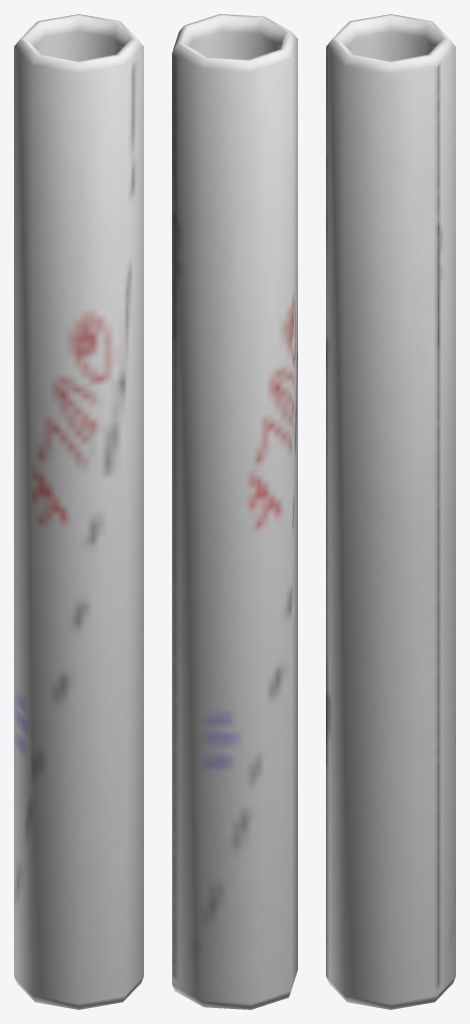
Rendered from gen_part_pvc.glb.
3 views of the same model, side by side, from view 1: azimuth 90°, elevation 25°; view 2: azimuth 150°, elevation 25°; view 3: azimuth 270°, elevation 25° (orthographic).
Visible parts, largest first — view 1: pvc_pipe-kine; view 2: pvc_pipe-kine; view 3: pvc_pipe-kine.
Boxes of the visible parts, left/top/right/bottom form: pvc_pipe-kine: left=14, top=14, right=143, bottom=1009; pvc_pipe-kine: left=172, top=14, right=297, bottom=1009; pvc_pipe-kine: left=326, top=14, right=455, bottom=1009.
Size of the model in its own units: 0.2476 by 1.99 by 0.2476.
Materials: 1 (1 with a texture image).
